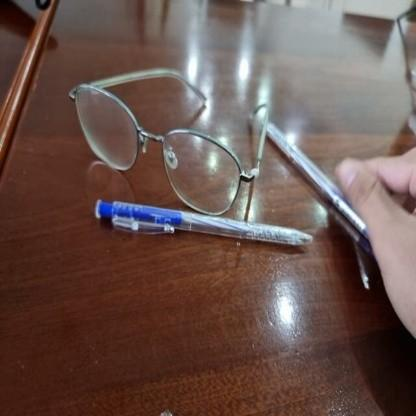not trash: (52, 55, 288, 212), (81, 189, 323, 262), (246, 107, 365, 236)
